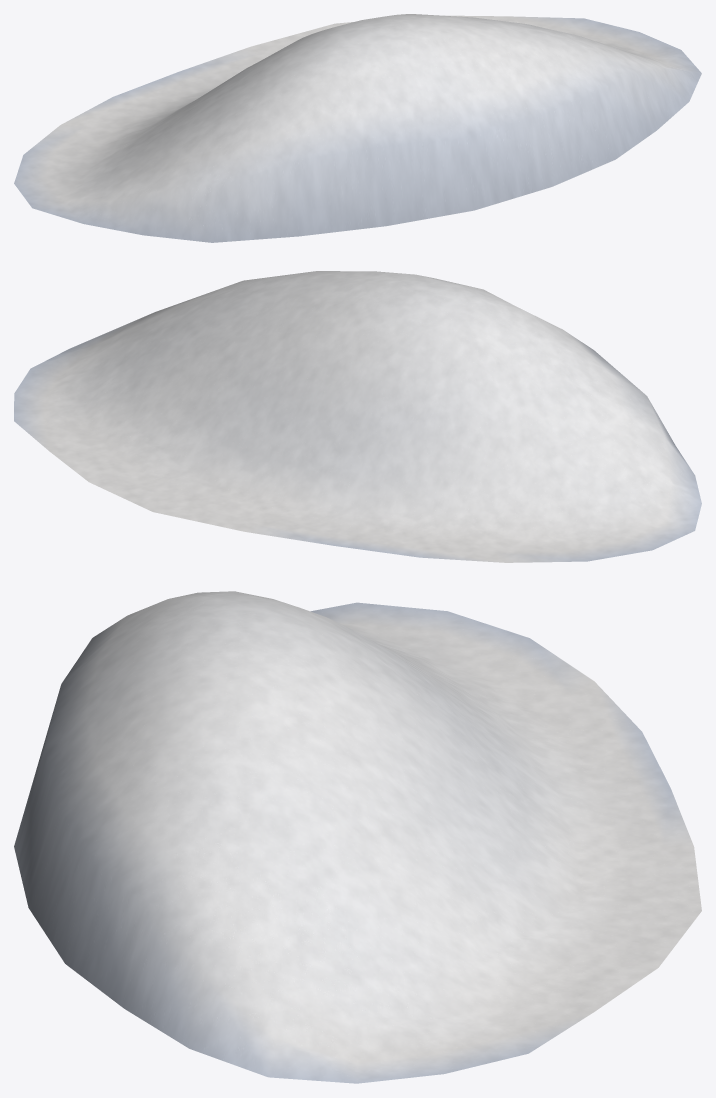
The model's file is fm_snowdrift_low_a.glb.
3 renders of one model, top to bottom at view 1: azimuth 30°, elevation 25°; view 2: azimuth 150°, elevation 25°; view 3: azimuth 270°, elevation 25°, orthographic. The views are drawn at different scales.
Visible parts, largest first — view 1: fm_snowdrift_low_a; view 2: fm_snowdrift_low_a; view 3: fm_snowdrift_low_a.
Part boxes in pixels (x1=…): fm_snowdrift_low_a: x1=14, y1=14, x2=701, y2=242; fm_snowdrift_low_a: x1=14, y1=271, x2=701, y2=562; fm_snowdrift_low_a: x1=14, y1=591, x2=701, y2=1083.
Size of the model in its own units: 2.85 by 0.5564 by 1.72.
Materials: 1 (1 with a texture image).
